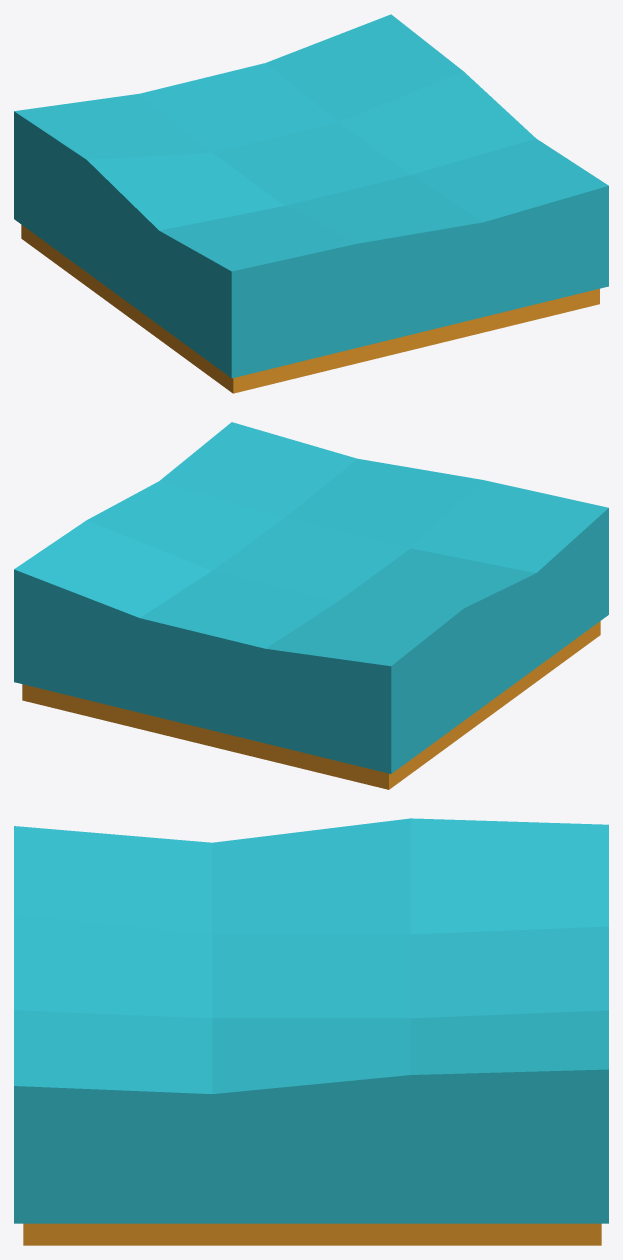
File: world-sea.glb
3 views of the same model, one above another, from view 1: azimuth 30°, elevation 25°; view 2: azimuth 150°, elevation 25°; view 3: azimuth 270°, elevation 25° (orthographic). The views are drawn at different scales.
Visible parts, largest first — view 1: world-sea; view 2: world-sea; view 3: world-sea.
Part boxes in pixels (x1,y1,x2,y2): world-sea: (14,14,608,393); world-sea: (14,422,608,789); world-sea: (14,818,608,1245).
Size of the model in its own units: 29.52 by 9.85 by 29.52.
1 material, 1 textured.
